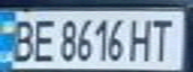1: (90, 16, 112, 62)
6: (106, 15, 130, 62), (75, 16, 96, 62)
8: (54, 16, 78, 63)
B: (3, 16, 39, 64)
E: (27, 16, 57, 63)
H: (127, 15, 157, 62)
T: (145, 15, 181, 62)
